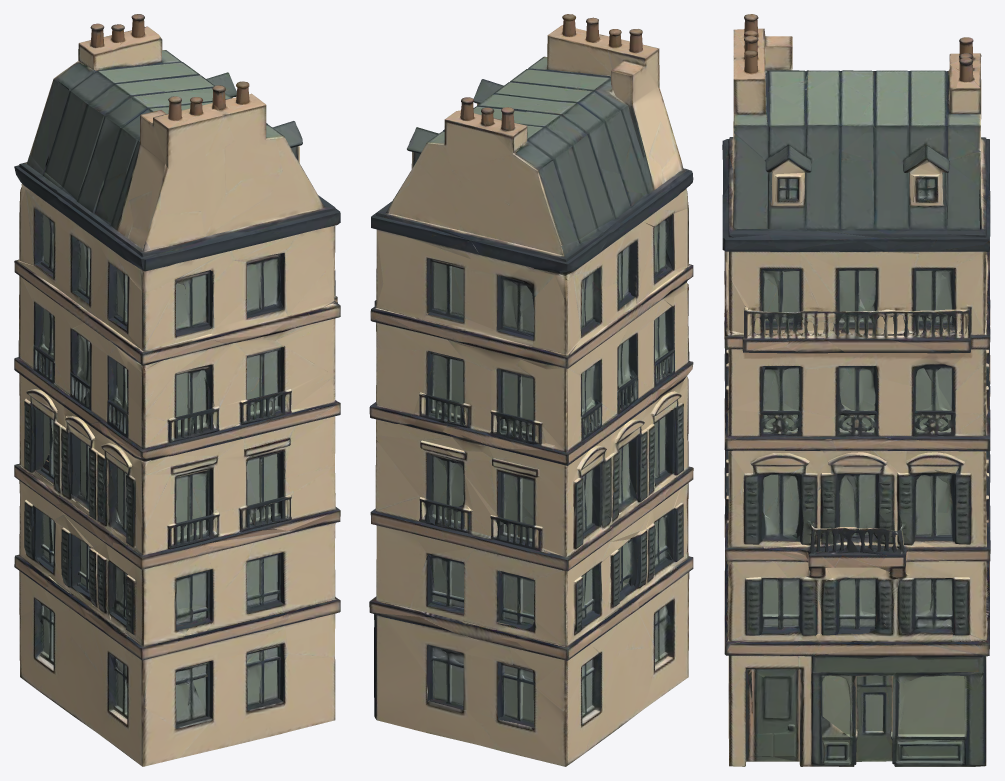
The model's file is building4_meshopt.glb.
The picture shows the model from 3 angles, left to right: view 1: azimuth 30°, elevation 25°; view 2: azimuth 150°, elevation 25°; view 3: azimuth 270°, elevation 25°; orthographic projection. The views are drawn at different scales.
Visible parts, largest first — view 1: output_unwrapped; view 2: output_unwrapped; view 3: output_unwrapped.
Boxes of the visible parts, x1,y1,x2,y2 form: output_unwrapped: (14,14,340,766); output_unwrapped: (369,14,693,766); output_unwrapped: (722,14,990,766).
Bounding box in the file's own units: 0.6797 × 2 × 0.7191.
Materials: 1 (1 with a texture image).
